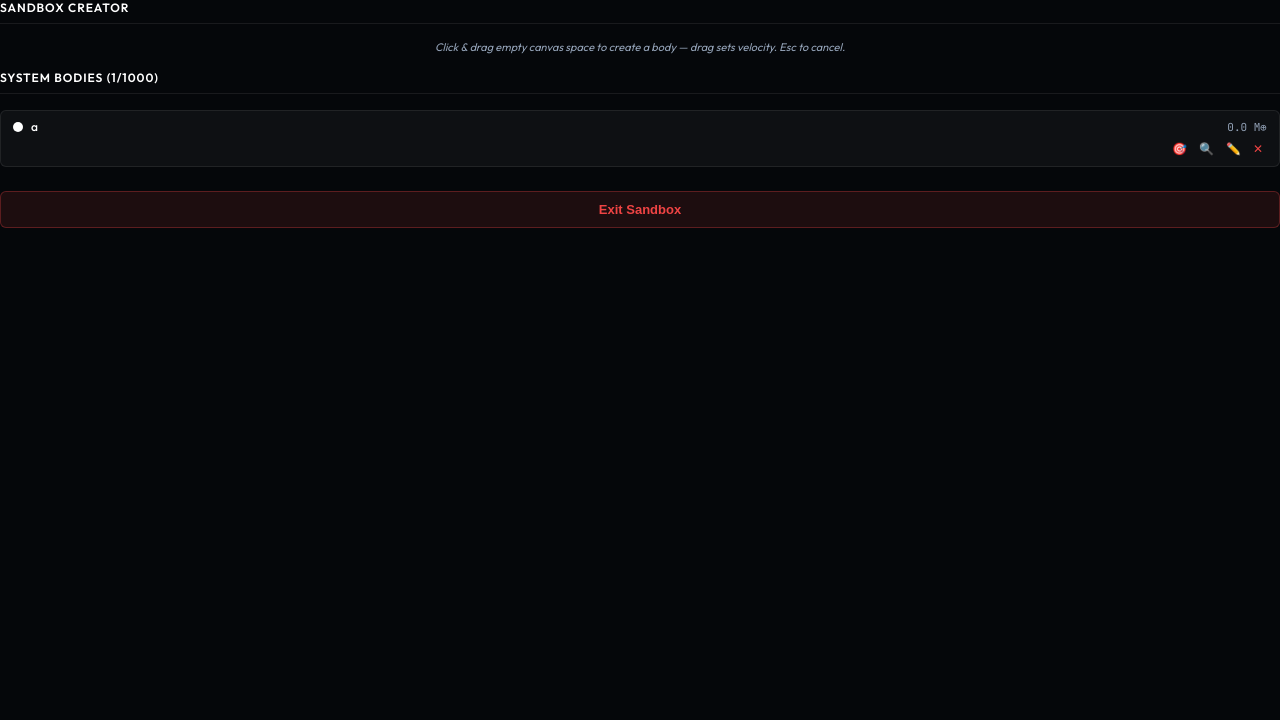
Test: SandboxControls › opens and cancels the edit dialog for a body
The width and height of the screenshot is (1280, 720).
Click the button with test id "edit-btn-a".
click(1234, 149)  # box [1222, 140, 1245, 158]
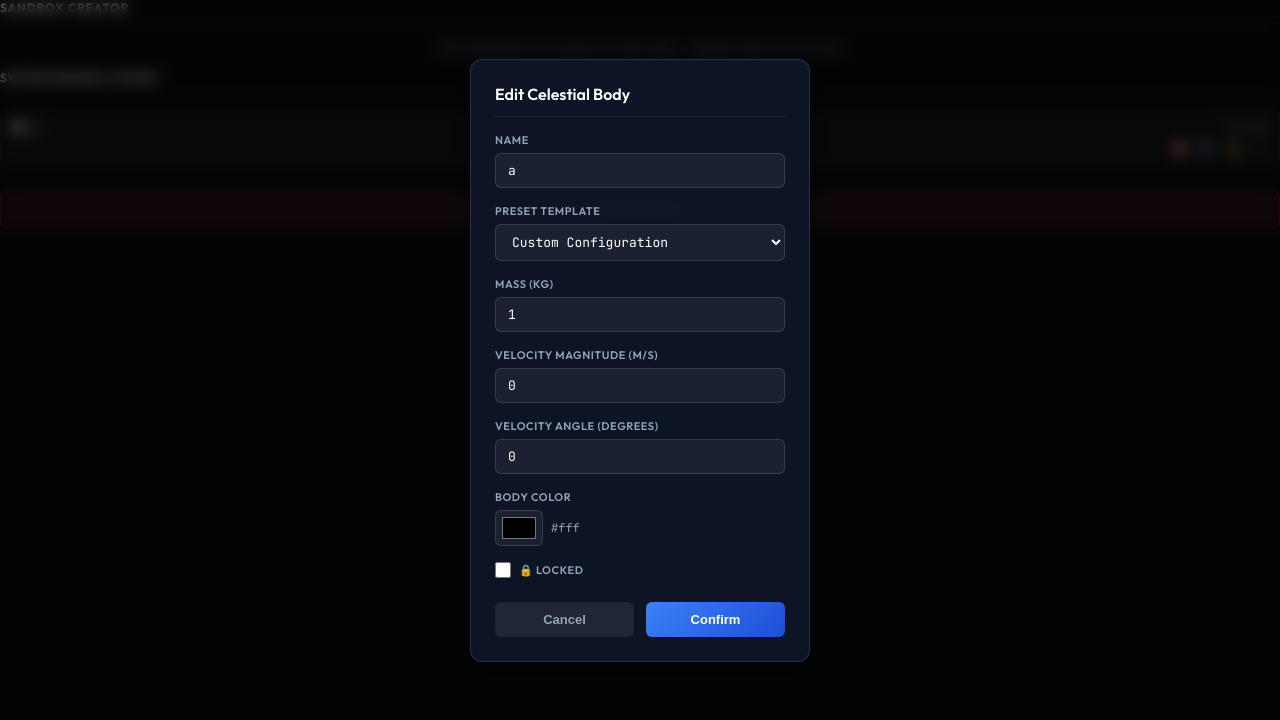
Check: the heading "Edit Celestial Body" is shown, box [495, 84, 785, 116]
Click the button "Cancel".
click(564, 619)  # box [495, 602, 634, 636]
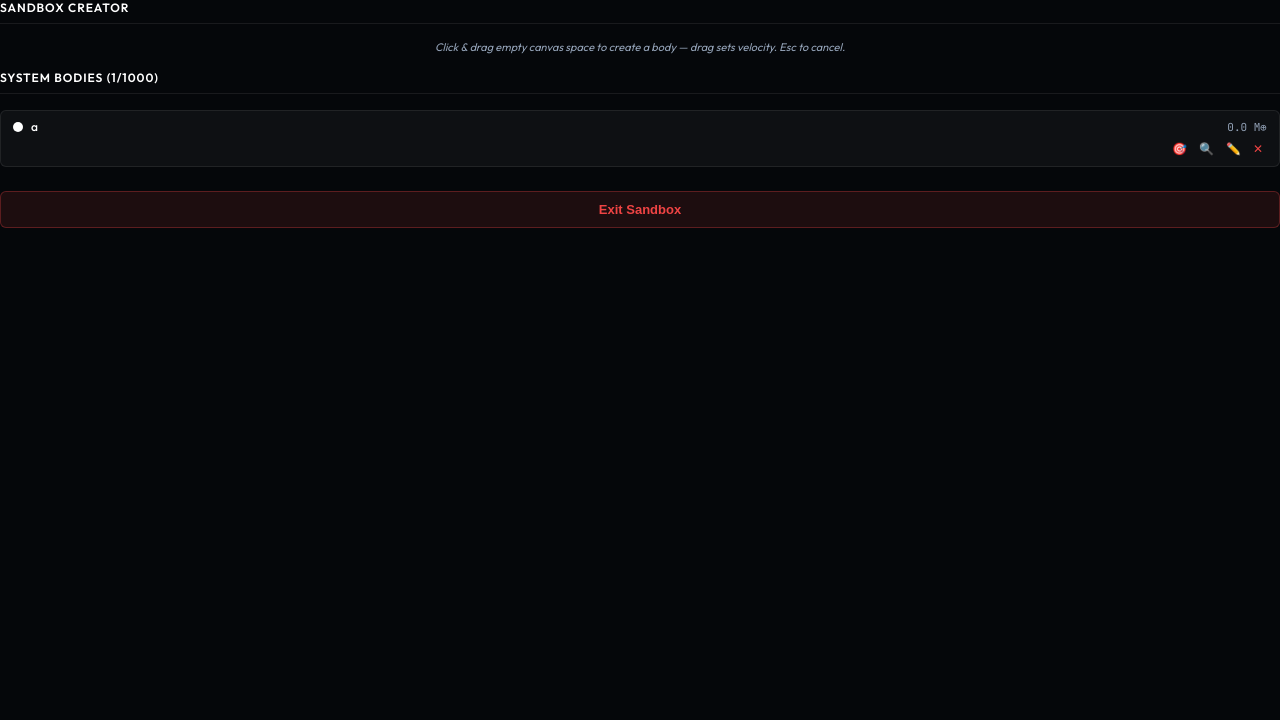
Check: the heading "Edit Celestial Body" is gone
